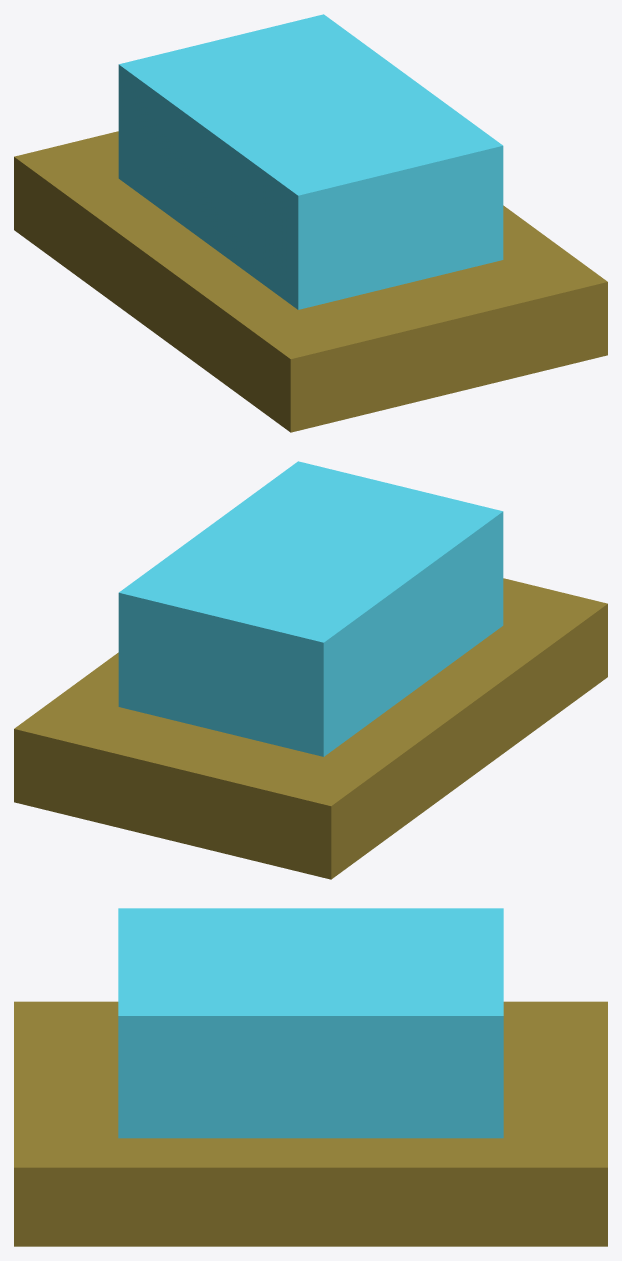
Rendered from botan.fbx.
The picture shows the model from 3 angles, top to bottom: view 1: azimuth 30°, elevation 25°; view 2: azimuth 150°, elevation 25°; view 3: azimuth 270°, elevation 25°; orthographic projection. The views are drawn at different scales.
Parts seen in each view (by area): view 1: botan, botan.001; view 2: botan, botan.001; view 3: botan.001, botan.
Part boxes in pixels (box(x1,y1,x2,y2)): botan: box(118, 14, 503, 309); botan.001: box(14, 131, 607, 432); botan: box(118, 461, 503, 756); botan.001: box(14, 578, 607, 879); botan.001: box(14, 1001, 607, 1246); botan: box(118, 908, 503, 1138).
Size of the model in its own units: 2.8 by 1.86 by 1.05.
